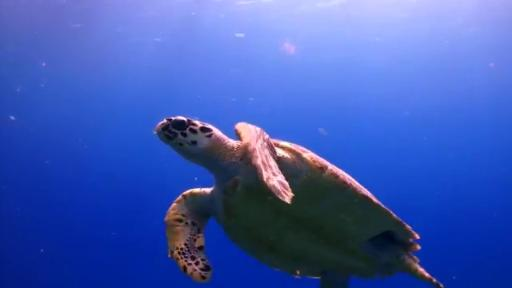Fish: (155, 116, 443, 287)
